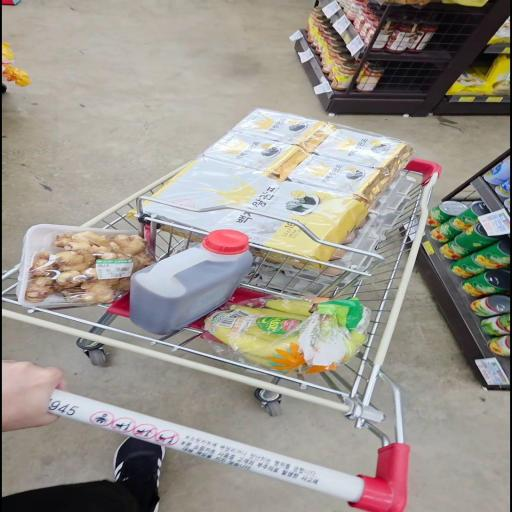fully_cart: (0, 111, 446, 512)
